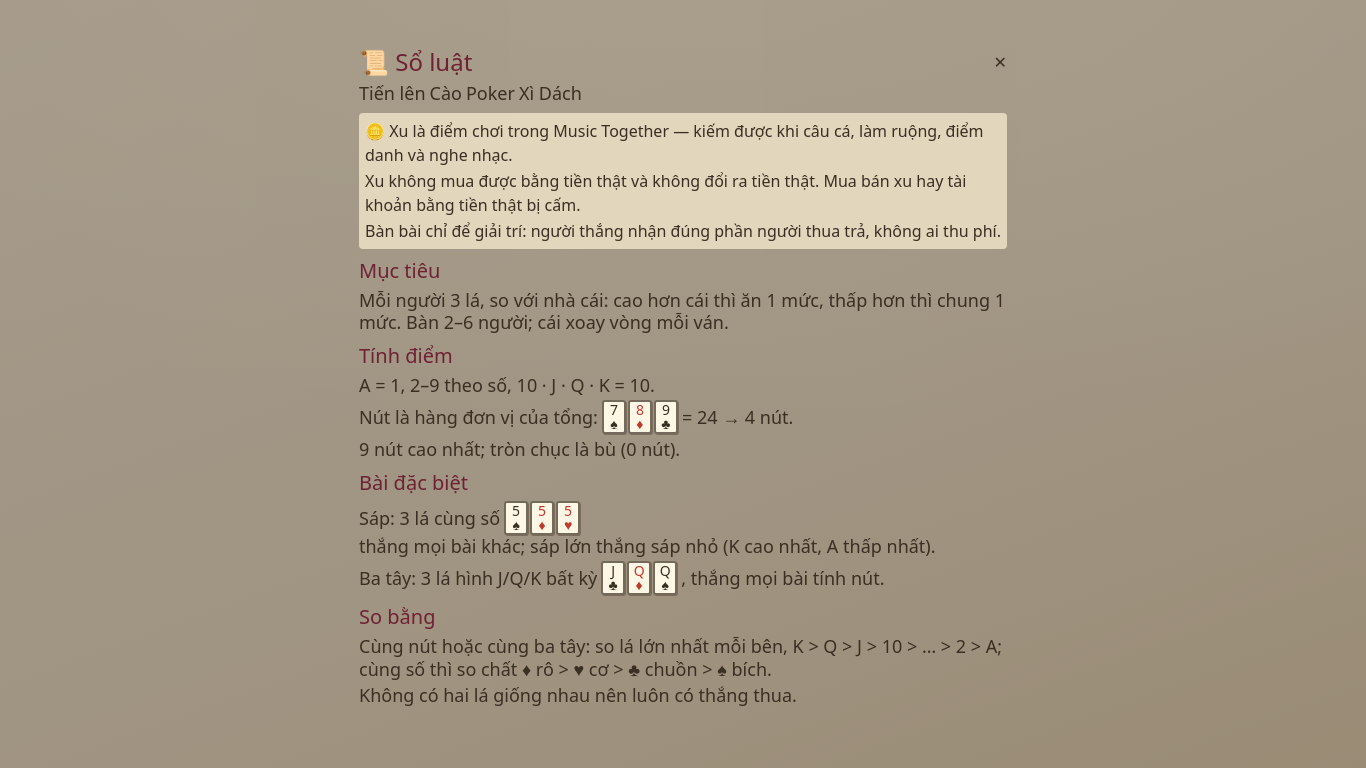
Test case: RulesBook (spec §14) › opens on the table's tab, switches tabs, and shows the examples at the table's stake
Check: the heading "Bài đặc biệt" is shown, box 359,469 -> 468,496
Click the tab "Tiến lên" at point(392, 94), box 359,82 -> 426,105
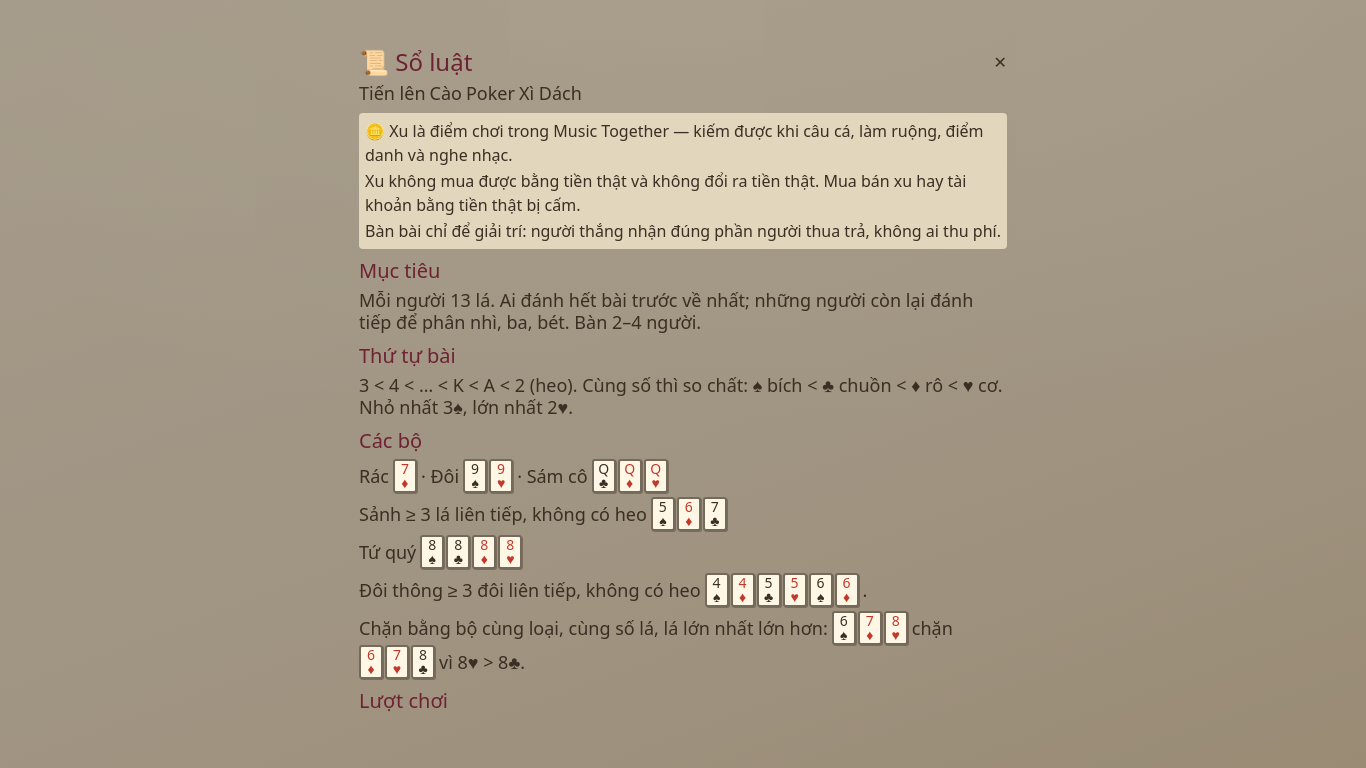
Check: the text "🪙 Xu là điểm chơi trong Music Together — kiếm được khi câu cá, làm ruộng, điểm danh và nghe nhạc." is shown, box 365,120 -> 984,166
Check: the picture named "9 bích" is shown, box 463,459 -> 487,493
